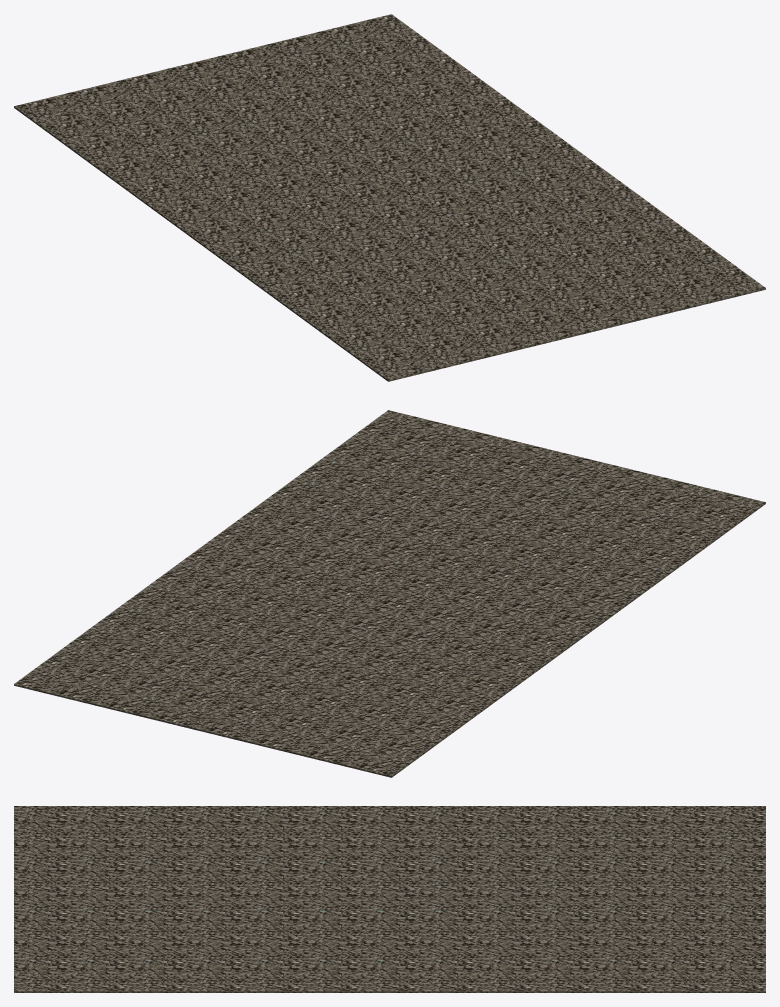
Rendered from ZigLev5.glb.
3 renders of one model, top to bottom at view 1: azimuth 30°, elevation 25°; view 2: azimuth 150°, elevation 25°; view 3: azimuth 270°, elevation 25°, orthographic.
Parts seen in each view (by area): view 1: ZigLev5; view 2: ZigLev5; view 3: ZigLev5.
Part boxes in pixels (x1,y1,x2,y2): ZigLev5: (14,14,765,381); ZigLev5: (14,410,765,777); ZigLev5: (14,806,765,992).
Size of the model in its own units: 966 by 4 by 1658.
Materials: 1 (1 with a texture image).
